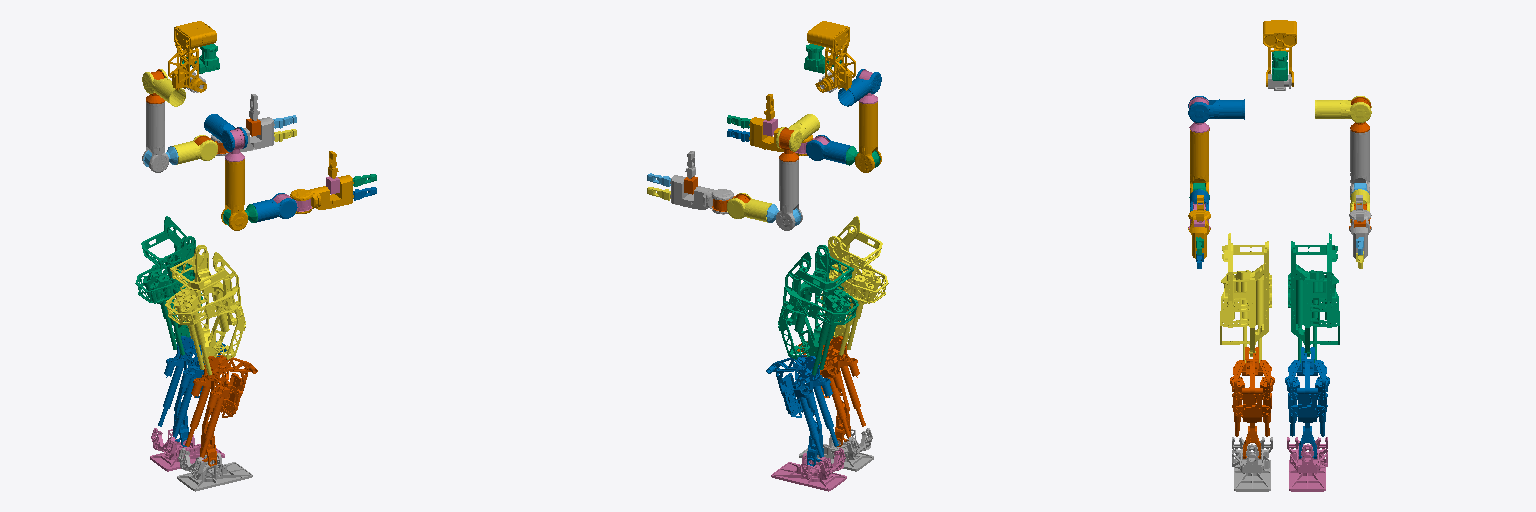
--- Facts derived from the render (not from the file) ---
3 views of the same robot in one strip: view 1: azimuth 30°, elevation 25°; view 2: azimuth 150°, elevation 25°; view 3: azimuth 270°, elevation 25° (orthographic).
Robot: escher — 49 links, 48 joints (39 revolute, 2 continuous, 3 prismatic, 4 fixed); root link base_link; default pose: all joints at 0.
Visible links, largest first — view 1: r_thigh, r_shin, l_thigh, l_shin, head, r_foot, r_arm, l_arm, r_palm, l_foot, l_shoulder, l_forearm (+3 smaller); view 2: l_thigh, l_shin, r_thigh, r_shin, head, l_foot, l_arm, r_arm, l_palm, r_foot, r_shoulder, l_forearm (+3 smaller); view 3: l_thigh, r_thigh, r_shin, l_shin, l_foot, r_foot, head, r_shoulder, l_arm, l_shoulder, r_arm.
Link boxes in pixels (box(x1,y1,x2,y2)): r_thigh: box(165, 245, 245, 375); r_shin: box(185, 355, 257, 466); l_thigh: box(135, 216, 202, 355); l_shin: box(158, 336, 226, 446); head: box(168, 21, 216, 92); r_foot: box(177, 448, 252, 491); r_arm: box(221, 159, 247, 230); l_arm: box(142, 102, 168, 172); r_palm: box(290, 175, 353, 213); l_foot: box(150, 428, 224, 471); l_shoulder: box(142, 69, 185, 106); l_forearm: box(172, 135, 217, 164); l_thigh: box(778, 245, 858, 375); l_shin: box(766, 355, 838, 466); r_thigh: box(821, 216, 888, 355); r_shin: box(797, 336, 865, 446); head: box(807, 21, 855, 92); l_foot: box(771, 448, 846, 491); l_arm: box(776, 159, 802, 230); r_arm: box(855, 102, 881, 172); l_palm: box(670, 175, 733, 214); r_foot: box(799, 428, 873, 471); r_shoulder: box(838, 69, 881, 106); l_forearm: box(727, 193, 771, 222); l_thigh: box(1288, 233, 1339, 362); r_thigh: box(1220, 233, 1271, 362); r_shin: box(1230, 347, 1274, 458); l_shin: box(1285, 347, 1329, 458); l_foot: box(1287, 437, 1327, 491); r_foot: box(1232, 437, 1272, 491); head: box(1263, 20, 1296, 86); r_shoulder: box(1188, 96, 1244, 122); l_arm: box(1350, 129, 1369, 195); l_shoulder: box(1315, 96, 1371, 122); r_arm: box(1190, 129, 1209, 193).
Size in the robot's own frame: 0.7617 by 0.6628 by 1.78 metres.
Meshes: 33 distinct files referenced, 31 mesh visuals loaded (31 binary STL); not drawn: 2 (reference not matched to a file when rendering).

The robot description file, URDF, robot "escher":
<?xml version="1.0" ?>
<robot name="escher">
  <link name="base_link">
    <origin xyz="0 0 0.9"/>
    <inertial>
      <mass value="0"/>
      <inertia ixx="0" ixy="0" ixz="0" iyy="0" iyz="0" izz="0"/>
    </inertial>
  </link>
  <!-- NOTE: This is not the right way to do this-->
  <link name="x_prismatic_link">
    <origin xyz="0 0 0" />
    <inertial>
      <mass value="0" />
      <inertia ixx="0" ixy="0" ixz="0" iyy="0" iyz="0" izz="0" />
    </inertial>
  </link>
  <link name="y_prismatic_link">
    <origin xyz="0 0 0" />
    <inertial>
      <mass value="0" />
      <inertia ixx="0" ixy="0" ixz="0" iyy="0" iyz="0" izz="0" />
    </inertial>
  </link>
  <link name="z_prismatic_link">
    <origin xyz="0 0 0" />
    <inertial>
      <mass value="0" />
      <inertia ixx="0" ixy="0" ixz="0" iyy="0" iyz="0" izz="0" />
    </inertial>
  </link>
  <link name="roll_revolute_link">
    <origin xyz="0 0 0" />
    <inertial>
      <mass value="0" />
      <inertia ixx="0" ixy="0" ixz="0" iyy="0" iyz="0" izz="0" />
    </inertial>
  </link>
  <link name="pitch_revolute_link">
    <origin xyz="0 0 0" />
    <inertial>
      <mass value="0" />
      <inertia ixx="0" ixy="0" ixz="0" iyy="0" iyz="0" izz="0" />
    </inertial>
  </link>
  <link name="yaw_revolute_link">
    <origin xyz="0 0 0" />
    <inertial>
      <mass value="0" />
      <inertia ixx="0" ixy="0" ixz="0" iyy="0" iyz="0" izz="0" />
    </inertial>
  </link>
  <joint name="x_prismatic_joint" type="prismatic">
    <parent link="base_link"/>
    <child link="x_prismatic_link"/>
    <limit effort="1000.0" lower="-50.0" upper="50.0" velocity="1"/>
    <origin rpy="0 0 0" xyz="0 0 0"/>
    <axis xyz="1 0 0" />
  </joint>
  <joint name="y_prismatic_joint" type="prismatic">
    <parent link="x_prismatic_link"/>
    <child link="y_prismatic_link"/>
    <limit effort="1000.0" lower="-50.0" upper="50.0" velocity="1"/>
    <origin rpy="0 0 0" xyz="0 0 0"/>
    <axis xyz="0 1 0" />
  </joint>
  <joint name="z_prismatic_joint" type="prismatic">
    <parent link="y_prismatic_link"/>
    <child link="z_prismatic_link"/>
    <limit effort="1000.0" lower="-20.0" upper="20.0" velocity="1"/>
    <origin rpy="0 0 0" xyz="0 0 0"/>
    <axis xyz="0 0 1" />
  </joint>
  <joint name="roll_revolute_joint" type="revolute">
    <parent link="z_prismatic_link"/>
    <child link="roll_revolute_link"/>
    <!-- <limit effort="1000.0" lower="-0.5236" higher="0.5236" velocity="1"/> -->
    <limit effort="1000.0" lower="-0.0" higher="0.0" velocity="1"/>
    <origin rpy="0 0 0" xyz="0 0 0"/>
    <axis xyz="1 0 0" />
  </joint>
  <joint name="pitch_revolute_joint" type="revolute">
    <parent link="roll_revolute_link"/>
    <child link="pitch_revolute_link"/>
    <!-- <limit effort="1000.0" lower="-0.5236" higher="0.5236" velocity="1"/> -->
    <limit effort="1000.0" lower="-0.0" higher="0.0" velocity="1"/>
    <origin rpy="0 0 0" xyz="0 0 0"/>
    <axis xyz="0 1 0" />
  </joint>
  <joint name="yaw_revolute_joint" type="continuous">
    <parent link="pitch_revolute_link"/>
    <child link="yaw_revolute_link"/>
    <limit effort="1000.0" velocity="1"/>
    <origin rpy="0 0 0" xyz="0 0 0"/>
    <axis xyz="0 0 1" />
  </joint>
  <joint name="base_joint" type="fixed">
    <origin rpy="0 0 0" xyz="0 0 0"/>
    <axis xyz="0 0 1"/>
    <parent link="yaw_revolute_link"/>
    <child link="torso"/>
  </joint>
  <link name="l_sole"/>
  <link name="r_sole"/>
  <joint name="l_sole_joint" type="fixed">
    <origin xyz="0.025 0 -0.08"/>
    <parent link="l_foot"/>
    <child link="l_sole"/>
  </joint>
  <joint name="r_sole_joint" type="fixed">
    <origin xyz="0.025 0 -0.08"/>
    <parent link="r_foot"/>
    <child link="r_sole"/>
  </joint>


  <joint name="l_hip_yaw" type="revolute">
    <parent link="torso"/>
    <child link="l_hip_yaw_trunnion"/>
    <origin rpy="0  0  0" xyz="0   0.1  0.9"/>
    <axis xyz="0  0  1"/>
    <limit effort="150.0" lower="-0.349065850399" upper="0.785398163397" velocity="12.0"/>
  </joint>
  <joint name="r_hip_yaw" type="revolute">
    <parent link="torso"/>
    <child link="r_hip_yaw_trunnion"/>
    <origin rpy="0  0  0" xyz="0  -0.1  0.9"/>
    <axis xyz="0  0  1"/>
    <limit effort="150.0" lower="-0.785398163397" upper="0.349065850399" velocity="12.0"/>
  </joint>
  <joint name="l_hip_roll" type="revolute">
    <parent link="l_hip_yaw_trunnion"/>
    <child link="l_hip_pitch_trunnion"/>
    <origin rpy="0  0  0" xyz="0  0  0"/>
    <axis xyz="1  0  0"/>
    <limit effort="150.0" lower="-0.523598775598" upper="0.785398163397" velocity="12.0"/>
  </joint>
  <joint name="r_hip_roll" type="revolute">
    <parent link="r_hip_yaw_trunnion"/>
    <child link="r_hip_pitch_trunnion"/>
    <origin rpy="0  0  0" xyz="0  0  0"/>
    <axis xyz="1  0  0"/>
    <limit effort="150.0" lower="-0.785398163397" upper="0.523598775598" velocity="12.0"/>
  </joint>
  <joint name="l_hip_pitch" type="revolute">
    <parent link="l_hip_pitch_trunnion"/>
    <child link="l_thigh"/>
    <origin rpy="0  0  0" xyz="0  0  0"/>
    <axis xyz="0  1  0"/>
    <limit effort="200.0" lower="-2.09439510239" upper="0.523598775598" velocity="12.0"/>
  </joint>
  <joint name="r_hip_pitch" type="revolute">
    <parent link="r_hip_pitch_trunnion"/>
    <child link="r_thigh"/>
    <origin rpy="0  0  0" xyz="0  0  0"/>
    <axis xyz="0  1  0"/>
    <limit effort="200.0" lower="-2.09439510239" upper="0.523598775598" velocity="12.0"/>
  </joint>
  <joint name="l_knee_pitch" type="revolute">
    <parent link="l_thigh"/>
    <child link="l_shin"/>
    <origin rpy="0  0  0" xyz="0    0   -0.41"/>
    <axis xyz="0  1  0"/>
    <limit effort="300.0" lower="0.0" upper="2.35619449019" velocity="12.0"/>
  </joint>
  <joint name="r_knee_pitch" type="revolute">
    <parent link="r_thigh"/>
    <child link="r_shin"/>
    <origin rpy="0  0  0" xyz="0    0   -0.41"/>
    <axis xyz="0  1  0"/>
    <limit effort="300.0" lower="0.0" upper="2.35619449019" velocity="12.0"/>
  </joint>
  <joint name="l_ankle_pitch" type="revolute">
    <parent link="l_shin"/>
    <child link="l_ankle_pitch_trunnion"/>
    <origin rpy="0  0  0" xyz="0    0   -0.41"/>
    <axis xyz="0  1  0"/>
    <limit effort="150.0" lower="-0.959931088597" upper="0.610865238198" velocity="12.0"/>
  </joint>
  <joint name="r_ankle_pitch" type="revolute">
    <parent link="r_shin"/>
    <child link="r_ankle_pitch_trunnion"/>
    <origin rpy="0  0  0" xyz="0    0   -0.41"/>
    <axis xyz="0  1  0"/>
    <limit effort="150.0" lower="-0.959931088597" upper="0.610865238198" velocity="12.0"/>
  </joint>
  <joint name="l_ankle_roll" type="revolute">
    <parent link="l_ankle_pitch_trunnion"/>
    <child link="l_foot"/>
    <origin rpy="0  0  0" xyz="0  0  0"/>
    <axis xyz="1  0  0"/>
    <limit effort="150.0" lower="-0.523598775598" upper="0.523598775598" velocity="12.0"/>
  </joint>
  <joint name="r_ankle_roll" type="revolute">
    <parent link="r_ankle_pitch_trunnion"/>
    <child link="r_foot"/>
    <origin rpy="0  0  0" xyz="0  0  0"/>
    <axis xyz="1  0  0"/>
    <limit effort="150.0" lower="-0.523598775598" upper="0.523598775598" velocity="12.0"/>
  </joint>
  <joint name="waist_yaw" type="revolute">
    <parent link="torso"/>
    <child link="chest"/>
    <origin rpy="0  0  0" xyz="-0.02515  0       1.3455"/>
    <axis xyz="0  0  1"/>
    <limit effort="150.0" lower="-0.785398163397" upper="0.785398163397" velocity="12.0"/>
  </joint>
  <joint name="head_yaw" type="revolute">
    <parent link="chest"/>
    <child link="neck"/>
    <origin rpy="0  0  0" xyz="0.02515  0       0.1925"/>
    <axis xyz="0  0  1"/>
    <limit effort="150.0" lower="-1.57079632679" upper="1.57079632679" velocity="12.0"/>
  </joint>
  <joint name="head_pitch" type="revolute">
    <parent link="neck"/>
    <child link="head"/>
    <origin rpy="0  0  0" xyz="0      0      0.0286"/>
    <axis xyz="0  1  0"/>
    <limit effort="150.0" lower="-0.523598775598" upper="1.0471975512" velocity="12.0"/>
  </joint>
  <joint name="left_camera_frame_joint" type="fixed">
    <parent link="head"/>
    <child link="left_camera_frame"/>
    <origin rpy="0  0  0" xyz="0.05156  0.035    0.18627"/>
    <axis xyz="0  1  0"/>
    <limit effort="0.0" lower="0.0" upper="0.0" velocity="0.0"/>
  </joint>
  <joint name="head_lidar_roll" type="continuous">
    <parent link="head"/>
    <child link="head_lidar"/>
    <origin rpy="0  0  0" xyz="0     0     0.089"/>
    <axis xyz="1  0  0"/>
    <limit effort="150.0" lower="0.0" upper="0.0" velocity="12.0"/>
  </joint>
  <joint name="l_shoulder_pitch" type="revolute">
    <parent link="chest"/>
    <child link="l_shoulder"/>
    <origin rpy="0  0  0" xyz="0.02515  0.1275   0.1079"/>
    <axis xyz="0  1  0"/>
    <limit effort="60.0" lower="-3.14159265359" upper="1.0471975512" velocity="2.0944"/>
  </joint>
  <joint name="r_shoulder_pitch" type="revolute">
    <parent link="chest"/>
    <child link="r_shoulder"/>
    <origin rpy="0  0  0" xyz="0.02515 -0.1275   0.1079"/>
    <axis xyz="0  1  0"/>
    <limit effort="60.0" lower="-3.14159265359" upper="1.0471975512" velocity="2.0944"/>
  </joint>
  <joint name="l_shoulder_roll" type="revolute">
    <parent link="l_shoulder"/>
    <child link="l_shoulder_roll_link"/>
    <origin rpy="0  0  0" xyz="0     0.163  0"/>
    <axis xyz="1  0  0"/>
    <limit effort="60.0" lower="-0.523598775598" upper="3.14159265359" velocity="2.0944"/>
  </joint>
  <joint name="r_shoulder_roll" type="revolute">
    <parent link="r_shoulder"/>
    <child link="r_shoulder_roll_link"/>
    <origin rpy="0  0  0" xyz="0    -0.163  0"/>
    <axis xyz="1  0  0"/>
    <limit effort="60.0" lower="-3.14159265359" upper="0.523598775598" velocity="2.0944"/>
  </joint>
  <joint name="l_shoulder_yaw" type="revolute">
    <parent link="l_shoulder_roll_link"/>
    <child link="l_arm"/>
    <origin rpy="0  0  0" xyz="0  0  0"/>
    <axis xyz="0  0  1"/>
    <limit effort="60.0" lower="-2.09439510239" upper="2.09439510239" velocity="2.0944"/>
  </joint>
  <joint name="r_shoulder_yaw" type="revolute">
    <parent link="r_shoulder_roll_link"/>
    <child link="r_arm"/>
    <origin rpy="0  0  0" xyz="0  0  0"/>
    <axis xyz="0  0  1"/>
    <limit effort="60.0" lower="-2.09439510239" upper="2.09439510239" velocity="2.0944"/>
  </joint>
  <joint name="l_elbow_pitch" type="revolute">
    <parent link="l_arm"/>
    <child link="l_elbow_link"/>
    <origin rpy="0  0  0" xyz="0      0     -0.3186"/>
    <axis xyz="0  1  0"/>
    <limit effort="60.0" lower="-0.523598775598" upper="3.66519142919" velocity="2.0944"/>
  </joint>
  <joint name="r_elbow_pitch" type="revolute">
    <parent link="r_arm"/>
    <child link="r_elbow_link"/>
    <origin rpy="0  0  0" xyz="0      0     -0.3186"/>
    <axis xyz="0  1  0"/>
    <limit effort="60.0" lower="-0.523598775598" upper="3.66519142919" velocity="2.0944"/>
  </joint>
  <joint name="l_elbow_roll" type="revolute">
    <parent link="l_elbow_link"/>
    <child link="l_forearm"/>
    <origin rpy="0  0  0" xyz="0  0  0"/>
    <axis xyz="1  0  0"/>
    <limit effort="60.0" lower="-2.09439510239" upper="2.09439510239" velocity="2.0944"/>
  </joint>
  <joint name="r_elbow_roll" type="revolute">
    <parent link="r_elbow_link"/>
    <child link="r_forearm"/>
    <origin rpy="0  0  0" xyz="0  0  0"/>
    <axis xyz="1  0  0"/>
    <limit effort="60.0" lower="-2.09439510239" upper="2.09439510239" velocity="2.0944"/>
  </joint>
  <joint name="l_wrist_pitch" type="revolute">
    <parent link="l_forearm"/>
    <child link="l_foreforearm"/>
    <origin rpy="0  0  0" xyz="0.2071  0      0"/>
    <axis xyz="0  1  0"/>
    <limit effort="60.0" lower="-1.57079632679" upper="1.57079632679" velocity="2.0944"/>
  </joint>
  <joint name="r_wrist_pitch" type="revolute">
    <parent link="r_forearm"/>
    <child link="r_foreforearm"/>
    <origin rpy="0  0  0" xyz="0.2071  0      0"/>
    <axis xyz="0  1  0"/>
    <limit effort="60.0" lower="-1.57079632679" upper="1.57079632679" velocity="2.0944"/>
  </joint>
  <joint name="l_wrist_yaw" type="revolute">
    <parent link="l_foreforearm"/>
    <child link="l_palm"/>
    <origin rpy="0  0  0" xyz="0.0741  0      0"/>
    <axis xyz="0  0  1"/>
    <limit effort="60.0" lower="-1.57079632679" upper="1.57079632679" velocity="2.0944"/>
  </joint>
  <joint name="r_wrist_yaw" type="revolute">
    <parent link="r_foreforearm"/>
    <child link="r_palm"/>
    <origin rpy="0  0  0" xyz="0.0741  0      0"/>
    <axis xyz="0  0  1"/>
    <limit effort="60.0" lower="-1.57079632679" upper="1.57079632679" velocity="2.0944"/>
  </joint>
  <joint name="l_index_yaw" type="revolute">
    <parent link="l_palm"/>
    <child link="l_index_link"/>
    <origin rpy="0  0  0" xyz="0.21849  0       0.027"/>
    <axis xyz="0  0  1"/>
    <limit effort="4.0" lower="-1.57079632679" upper="0.785398163397" velocity="4.1888"/>
  </joint>
  <joint name="r_index_yaw" type="revolute">
    <parent link="r_palm"/>
    <child link="r_index_link"/>
    <origin rpy="0  0  0" xyz="0.21849  0       0.027"/>
    <axis xyz="0  0  1"/>
    <limit effort="4.0" lower="-0.785398163397" upper="1.57079632679" velocity="4.1888"/>
  </joint>
  <joint name="l_ring_yaw" type="revolute">
    <parent link="l_palm"/>
    <child link="l_ring_link"/>
    <origin rpy="0  0  0" xyz="0.21849  0      -0.027"/>
    <axis xyz="0  0  1"/>
    <limit effort="4.0" lower="-1.57079632679" upper="0.785398163397" velocity="4.1888"/>
  </joint>
  <joint name="r_ring_yaw" type="revolute">
    <parent link="r_palm"/>
    <child link="r_ring_link"/>
    <origin rpy="0  0  0" xyz="0.21849  0       0.027"/>
    <axis xyz="0  0  1"/>
    <limit effort="4.0" lower="-0.785398163397" upper="1.57079632679" velocity="4.1888"/>
  </joint>
  <joint name="l_thumb_roll" type="revolute">
    <parent link="l_palm"/>
    <child link="l_thumb_base"/>
    <origin rpy="0  0  0" xyz="0.10539  0       0.01529"/>
    <axis xyz="1  0  0"/>
    <limit effort="4.0" lower="-1.57079632679" upper="1.57079632679" velocity="4.1888"/>
  </joint>
  <joint name="r_thumb_roll" type="revolute">
    <parent link="r_palm"/>
    <child link="r_thumb_base"/>
    <origin rpy="0  0  0" xyz="0.10539  0       0.01529"/>
    <axis xyz="1  0  0"/>
    <limit effort="4.0" lower="-1.57079632679" upper="1.57079632679" velocity="4.1888"/>
  </joint>
  <joint name="l_thumb_pitch" type="revolute">
    <parent link="l_thumb_base"/>
    <child link="l_thumb_link"/>
    <origin rpy="0  0  0" xyz="0.03009 -0.00214  0.05731"/>
    <axis xyz="0  1  0"/>
    <limit effort="4.0" lower="-0.785398163397" upper="1.57079632679" velocity="4.1888"/>
  </joint>
  <joint name="r_thumb_pitch" type="revolute">
    <parent link="r_thumb_base"/>
    <child link="r_thumb_link"/>
    <origin rpy="0  0  0" xyz="0.03009  0.00214  0.05731"/>
    <axis xyz="0  1  0"/>
    <limit effort="4.0" lower="-0.785398163397" upper="1.57079632679" velocity="4.1888"/>
  </joint>
  <link name="torso">
    <inertial>
      <mass value="12.662540836356"/>
      <origin rpy="0  0  0" xyz="-2.75400000e-02  -8.00000000e-05   1.03335000e+00"/>
      <inertia ixx="0.189594996" ixy="0.000243698" ixz="-0.00084363" iyy="0.165226373" iyz="2.491e-05" izz="0.191129536"/>
    </inertial>
    <collision name="torso_collision">
      <origin rpy="0  0  0" xyz="-0.03035  0       1.055"/>
      <geometry>
        <box size="0.307 0.41 0.26"/>
      </geometry>
    </collision>
    <visual name="torso_visual">
      <origin rpy="0  0  0" xyz="0  0  0"/>
      <geometry>
        <mesh filename="package://trec_platforms/gazebo_models/escher/meshes/torso.stl OR thor_description/meshes/torso.stl OR trec_platforms/gazebo_models/escher/meshes/torso.stl OR trec_platforms/gazebo_models/thor/meshes/torso.stl OR trec_platforms/gazebo_models/saffir/meshes/torso.stl" scale=".001 .001 .001"/>
      </geometry>
    </visual>
  </link>
  <link name="l_thigh">
    <inertial>
      <mass value="7.1064153123855"/>
      <origin rpy="0  0  0" xyz="-0.01289  0.02119 -0.20709"/>
      <inertia ixx="0.079832533" ixy="0.005608169" ixz="-0.014464827" iyy="0.090497961" iyz="-0.003214845" izz="0.04397275"/>
    </inertial>
    <collision name="l_thigh_collision">
      <origin rpy="0   -0.15  0" xyz="-0.01694  0.032   -0.23"/>
      <geometry>
        <box size="0.28 0.21 0.45"/>
      </geometry>
    </collision>
    <visual name="l_thigh_visual">
      <origin rpy="0  0  0" xyz="0  -0.1 -0.9"/>
      <geometry>
        <mesh filename="package://trec_platforms/gazebo_models/escher/meshes/l_thigh.stl OR thor_description/meshes/l_thigh.stl OR trec_platforms/gazebo_models/escher/meshes/l_thigh.stl OR trec_platforms/gazebo_models/thor/meshes/l_thigh.stl OR trec_platforms/gazebo_models/saffir/meshes/l_thigh.stl" scale=".001 .001 .001"/>
      </geometry>
    </visual>
  </link>
  <link name="r_thigh">
    <inertial>
      <mass value="7.0991535785875"/>
      <origin rpy="0  0  0" xyz="-0.01303 -0.02082 -0.207"/>
      <inertia ixx="0.079523937" ixy="-0.005865006" ixz="-0.014386485" iyy="0.090222577" iyz="0.003378144" izz="0.044391657"/>
    </inertial>
    <collision name="r_thigh_collision">
      <origin rpy="0   -0.18  0" xyz="-0.01694 -0.032   -0.23"/>
      <geometry>
        <box size="0.28 0.21 0.45"/>
      </geometry>
    </collision>
    <visual name="r_thigh_visual">
      <origin rpy="0  0  0" xyz="0   0.1 -0.9"/>
      <geometry>
        <mesh filename="package://trec_platforms/gazebo_models/escher/meshes/r_thigh.stl OR thor_description/meshes/r_thigh.stl OR trec_platforms/gazebo_models/escher/meshes/r_thigh.stl OR trec_platforms/gazebo_models/thor/meshes/r_thigh.stl OR trec_platforms/gazebo_models/saffir/meshes/r_thigh.stl" scale=".001 .001 .001"/>
      </geometry>
    </visual>
  </link>
  <link name="l_shin">
    <inertial>
      <mass value="4.891550698374"/>
      <origin rpy="0  0  0" xyz="0.0392   0.00038 -0.15416"/>
      <inertia ixx="0.049926224" ixy="-6.1882e-05" ixz="0.008459786" iyy="0.051902624" iyz="-0.000412746" izz="0.017996958"/>
    </inertial>
    <collision name="l_shin_collision">
      <origin rpy="0    0.28  0" xyz="0.01907  0.00211 -0.20888"/>
      <geometry>
        <box size="0.13 0.16 0.4512008"/>
      </geometry>
    </collision>
    <visual name="l_shin_visual">
      <origin rpy="0  0  0" xyz="0   -0.1  -0.49"/>
      <geometry>
        <mesh filename="package://trec_platforms/gazebo_models/escher/meshes/l_shin.stl OR thor_description/meshes/l_shin.stl OR trec_platforms/gazebo_models/escher/meshes/l_shin.stl OR trec_platforms/gazebo_models/thor/meshes/l_shin.stl OR trec_platforms/gazebo_models/saffir/meshes/l_shin.stl" scale=".001 .001 .001"/>
      </geometry>
    </visual>
  </link>
  <link name="r_shin">
    <inertial>
      <mass value="4.8915506176771"/>
      <origin rpy="0  0  0" xyz="0.0392  -0.00028 -0.15416"/>
      <inertia ixx="0.049926754" ixy="8.0717e-05" ixz="0.008459765" iyy="0.051902784" iyz="0.000377725" izz="0.01799724"/>
    </inertial>
    <collision name="r_shin_collision">
      <origin rpy="0    0.28  0" xyz="0.01907 -0.00211 -0.20888"/>
      <geometry>
        <box size="0.13 0.16 0.4512008"/>
      </geometry>
    </collision>
    <visual name="r_shin_visual">
      <origin rpy="0  0  0" xyz="0    0.1  -0.49"/>
      <geometry>
        <mesh filename="package://trec_platforms/gazebo_models/escher/meshes/r_shin.stl OR thor_description/meshes/r_shin.stl OR trec_platforms/gazebo_models/escher/meshes/r_shin.stl OR trec_platforms/gazebo_models/thor/meshes/r_shin.stl OR trec_platforms/gazebo_models/saffir/meshes/r_shin.stl" scale=".001 .001 .001"/>
      </geometry>
    </visual>
  </link>
  <link name="l_foot">
    <inertial>
      <mass value="1.7980371518612"/>
      <origin rpy="0  0  0" xyz="-0.00354  0.00037 -0.04369"/>
      <inertia ixx="0.003629189" ixy="1.3079e-05" ixz="-0.001366256" iyy="0.007181627" iyz="2.3132e-05" izz="0.007515445"/>
    </inertial>
    <collision name="l_foot_collision">
      <origin rpy="0  0  0" xyz="0.025    0      -0.05327"/>
      <geometry>
        <box size="0.25 0.1485 0.05493235"/>
      </geometry>
    </collision>
    <visual name="l_foot_visual">
      <origin rpy="0  0  0" xyz="0   -0.1  -0.08"/>
      <geometry>
        <mesh filename="package://trec_platforms/gazebo_models/escher/meshes/l_foot.stl OR thor_description/meshes/l_foot.stl OR trec_platforms/gazebo_models/escher/meshes/l_foot.stl OR trec_platforms/gazebo_models/thor/meshes/l_foot.stl OR trec_platforms/gazebo_models/saffir/meshes/l_foot.stl" scale=".001 .001 .001"/>
      </geometry>
    </visual>
  </link>
  <link name="r_foot">
    <inertial>
      <mass value="1.8019124983577"/>
      <origin rpy="0  0  0" xyz="-0.00325 -0.00035 -0.04369"/>
      <inertia ixx="0.003638673" ixy="8.912e-06" ixz="-0.001360529" iyy="0.007191304" iyz="-2.3098e-05" izz="0.007526564"/>
    </inertial>
    <collision name="r_foot_collision">
      <origin rpy="0  0  0" xyz="0.025    0      -0.05332"/>
      <geometry>
        <box size="0.25 0.1485 0.05493235"/>
      </geometry>
    </collision>
    <visual name="r_foot_visual">
      <origin rpy="0  0  0" xyz="0    0.1  -0.08"/>
      <geometry>
        <mesh filename="package://trec_platforms/gazebo_models/escher/meshes/r_foot.stl OR thor_description/meshes/r_foot.stl OR trec_platforms/gazebo_models/escher/meshes/r_foot.stl OR trec_platforms/gazebo_models/thor/meshes/r_foot.stl OR trec_platforms/gazebo_models/saffir/meshes/r_foot.stl" scale=".001 .001 .001"/>
      </geometry>
    </visual>
  </link>
  <link name="l_hip_yaw_trunnion">
    <inertial>
      <mass value="0.051728795245815"/>
      <origin rpy="0  0  0" xyz="0  0  0"/>
      <inertia ixx="0.0085833333333333" ixy="0" ixz="0" iyy="0.0085833333333333" iyz="0" izz="0.00075"/>
    </inertial>
  </link>
  <link name="r_hip_yaw_trunnion">
    <inertial>
      <mass value="0.051728795245815"/>
      <origin rpy="0  0  0" xyz="0  0  0"/>
      <inertia ixx="0.0085833333333333" ixy="0" ixz="0" iyy="0.0085833333333333" iyz="0" izz="0.00075"/>
    </inertial>
  </link>
  <link name="l_hip_pitch_trunnion">
    <inertial>
      <mass value="0.051728795245815"/>
      <origin rpy="1.57079  0       0" xyz="0  0  0"/>
      <inertia ixx="0.0085833333333333" ixy="0" ixz="0" iyy="0.0085833333333333" iyz="0" izz="0.00075"/>
    </inertial>
  </link>
  <link name="r_hip_pitch_trunnion">
    <inertial>
      <mass value="0.051728795245815"/>
      <origin rpy="1.57079  0       0" xyz="0  0  0"/>
      <inertia ixx="0.0085833333333333" ixy="0" ixz="0" iyy="0.0085833333333333" iyz="0" izz="0.00075"/>
    </inertial>
  </link>
  <link name="l_ankle_pitch_trunnion">
    <inertial>
      <mass value="0.051728795245815"/>
      <origin rpy="1.57079  0       0" xyz="0  0  0"/>
      <inertia ixx="0.0085833333333333" ixy="0" ixz="0" iyy="0.0085833333333333" iyz="0" izz="0.00075"/>
    </inertial>
  </link>
  <link name="r_ankle_pitch_trunnion">
    <inertial>
      <mass value="0.051728795245815"/>
      <origin rpy="1.57079  0       0" xyz="0  0  0"/>
      <inertia ixx="0.0085833333333333" ixy="0" ixz="0" iyy="0.0085833333333333" iyz="0" izz="0.00075"/>
    </inertial>
  </link>
  <link name="chest">
    <inertial>
      <mass value="15.967544717148"/>
      <origin rpy="0  0  0" xyz="0.00049 -0.00057  0.00107"/>
      <inertia ixx="0.320061097" ixy="-0.001679142" ixz="-0.006857708" iyy="0.258881187" iyz="0.005595512" izz="0.19263458"/>
    </inertial>
    <collision name="chest_collision">
      <origin rpy="0  0  0" xyz="0  0  0"/>
      <geometry>
        <box size="0.24 0.43 0.325"/>
      </geometry>
    </collision>
    <visual name="chest_visual">
      <origin rpy="0  0  0" xyz="0.02515  0      -1.3455"/>
      <geometry>
        <mesh filename="package://trec_platforms/gazebo_models/escher/meshes/chest.stl OR thor_description/meshes/chest.stl OR rene_description/meshes/chest.stl OR trec_platforms/gazebo_models/escher/meshes/chest.stl OR trec_platforms/gazebo_models/thor/meshes/chest.stl OR trec_platforms/gazebo_models/saffir/meshes/chest.stl" scale=".001 .001 .001"/>
      </geometry>
    </visual>
  </link>
  <link name="neck">
    <inertial>
      <mass value="0.4430192306267"/>
      <origin rpy="0  0  0" xyz="0       0.00028  0.02571"/>
      <inertia ixx="0.000347468" ixy="0" ixz="-0" iyy="0.000151286" iyz="-8.157e-06" izz="0.000333572"/>
    </inertial>
    <collision name="neck_collision">
      <origin rpy="0  0  0" xyz="0       0.003    0.02152"/>
      <geometry>
        <box size="0.0541 0.096 0.05405"/>
      </geometry>
    </collision>
    <visual name="neck_visual">
      <origin rpy="0  0  0" xyz="0     0    -1.538"/>
      <geometry>
        <mesh filename="package://trec_platforms/gazebo_models/escher/meshes/neck.stl OR thor_description/meshes/neck.stl OR rene_description/meshes/neck.stl OR trec_platforms/gazebo_models/escher/meshes/neck.stl OR trec_platforms/gazebo_models/thor/meshes/neck.stl OR trec_platforms/gazebo_models/saffir/meshes/neck.stl" scale=".001 .001 .001"/>
      </geometry>
    </visual>
  </link>
  <link name="head">
    <inertial>
      <mass value="1.7856228555403"/>
      <origin rpy="0  0  0" xyz="-1.90400000e-02   1.00000000e-05   1.38520000e-01"/>
      <inertia ixx="0.009989911" ixy="3.49e-06" ixz="0.002192988" iyy="0.010295295" iyz="-8.541e-06" izz="0.003904584"/>
    </inertial>
    <collision name="head_collision">
      <origin rpy="0  0  0" xyz="-0.01425  0       0.07445"/>
      <geometry>
        <box size="0.155386 0.122 0.2991"/>
      </geometry>
    </collision>
    <visual name="head_visual">
      <origin rpy="0  0  0" xyz="0      0     -1.5666"/>
      <geometry>
        <mesh filename="package://trec_platforms/gazebo_models/escher/meshes/head.stl OR thor_description/meshes/head.stl OR rene_description/meshes/head.stl OR trec_platforms/gazebo_models/escher/meshes/head.stl OR trec_platforms/gazebo_models/thor/meshes/head.stl OR trec_platforms/gazebo_models/saffir/meshes/head.stl" scale=".001 .001 .001"/>
      </geometry>
    </visual>
  </link>
  <link name="left_camera_frame">
    <inertial>
      <mass value="0.010345759049163"/>
      <origin rpy="0  0  0" xyz="0  0  0"/>
      <inertia ixx="0.0005" ixy="0" ixz="0" iyy="0.0005" iyz="0" izz="0.0005"/>
    </inertial>
  </link>
  <link name="head_lidar">
    <inertial>
      <mass value="0.44909881868181"/>
      <origin rpy="0  0  0" xyz="0.02536  0      -0.00763"/>
      <inertia ixx="0.000368817" ixy="5.5e-08" ixz="-8.417e-06" iyy="0.000869352" iyz="-2.1e-08" izz="0.000701866"/>
    </inertial>
    <collision name="head_lidar_collision">
      <origin rpy="0  0  0" xyz="0.0098  0      0"/>
      <geometry>
        <box size="0.1395 0.06 0.093"/>
      </geometry>
    </collision>
    <visual name="head_lidar_visual">
      <origin rpy="0  0  0" xyz="0.0098  0      0"/>
      <geometry>
        <mesh filename="package://trec_platforms/gazebo_models/escher/meshes/head_lidar.stl OR thor_description/meshes/head_lidar.stl OR rene_description/meshes/head_lidar.stl OR trec_platforms/gazebo_models/escher/meshes/head_lidar.stl OR trec_platforms/gazebo_models/thor/meshes/head_lidar.stl OR trec_platforms/gazebo_models/saffir/meshes/head_lidar.stl" scale=".001 .001 .001"/>
      </geometry>
    </visual>
  </link>
  <link name="l_shoulder">
    <inertial>
      <mass value="1.3908820991708"/>
      <origin rpy="0  0  0" xyz="0.00068  0.08249 -0.00011"/>
      <inertia ixx="0.002733115" ixy="7.3154e-05" ixz="1.54e-07" iyy="0.001266362" iyz="-1.541e-06" izz="0.002795471"/>
    </inertial>
    <collision name="l_shoulder_collision">
      <origin rpy="1.57079  0       0" xyz="0.00000000e+00   1.02000000e-01   3.00000000e-05"/>
      <geometry>
        <cylinder length="0.2" radius="0.05"/>
      </geometry>
    </collision>
    <visual name="l_shoulder_visual">
      <origin rpy="0  0  0" xyz="0     -0.1275 -1.4534"/>
      <geometry>
        <mesh filename="package://trec_platforms/gazebo_models/escher/meshes/ShoulderPitchLeft.stl OR trec_platforms/gazebo_models/escher/meshes/ShoulderPitchLeft.stl" scale=".001 .001 .001"/>
      </geometry>
    </visual>
  </link>
  <link name="r_shoulder">
    <inertial>
      <mass value="1.3908820991708"/>
      <origin rpy="0  0  0" xyz="0.00069 -0.08249 -0.00011"/>
      <inertia ixx="0.002733115" ixy="-7.2667e-05" ixz="1.21e-07" iyy="0.001266353" iyz="1.541e-06" izz="0.002795463"/>
    </inertial>
    <collision name="r_shoulder_collision">
      <origin rpy="1.57079  0       0" xyz="0.00000000e+00  -1.02000000e-01   3.00000000e-05"/>
      <geometry>
        <cylinder length="0.2" radius="0.05"/>
      </geometry>
    </collision>
    <visual name="r_shoulder_visual">
      <origin rpy="0  0  0" xyz="0      0.1275 -1.4534"/>
      <geometry>
        <mesh filename="package://trec_platforms/gazebo_models/escher/meshes/ShoulderPitchRight.stl OR trec_platforms/gazebo_models/escher/meshes/ShoulderPitchRight.stl" scale=".001 .001 .001"/>
      </geometry>
    </visual>
  </link>
  <link name="l_shoulder_roll_link">
    <inertial>
      <mass value="0.73371135570505"/>
      <origin rpy="0  0  0" xyz="-1.50000000e-04  -6.00000000e-05  -1.50100000e-02"/>
      <inertia ixx="0.000940092" ixy="-7e-09" ixz="-1.865e-06" iyy="0.000866608" iyz="2.817e-06" izz="0.000365724"/>
    </inertial>
    <visual name="l_shoulder_roll_link_visual">
      <origin rpy="0  0  0" xyz="0      -0.29049 -1.45343"/>
      <geometry>
        <mesh filename="package://trec_platforms/gazebo_models/escher/meshes/ShoulderRollLeft.stl OR trec_platforms/gazebo_models/escher/meshes/ShoulderRollLeft.stl" scale=".001 .001 .001"/>
      </geometry>
    </visual>
  </link>
  <link name="r_shoulder_roll_link">
    <inertial>
      <mass value="0.73371135570505"/>
      <origin rpy="0  0  0" xyz="1.50000000e-04   6.00000000e-05  -1.50100000e-02"/>
      <inertia ixx="0.000940092" ixy="-7e-09" ixz="1.865e-06" iyy="0.000866608" iyz="-2.817e-06" izz="0.000365724"/>
    </inertial>
    <visual name="r_shoulder_roll_link_visual">
      <origin rpy="0  0  0" xyz="0       0.29049 -1.45343"/>
      <geometry>
        <mesh filename="package://trec_platforms/gazebo_models/escher/meshes/ShoulderRollRight.stl OR trec_platforms/gazebo_models/escher/meshes/ShoulderRollRight.stl" scale=".001 .001 .001"/>
      </geometry>
    </visual>
  </link>
  <link name="l_arm">
    <inertial>
      <mass value="1.3364954742869"/>
      <origin rpy="0  0  0" xyz="0       0.00094 -0.20911"/>
      <inertia ixx="0.007190942" ixy="-1e-09" ixz="-0" iyy="0.007116565" iyz="-0.000130703" izz="0.000965322"/>
    </inertial>
    <collision name="l_arm_collision">
      <origin rpy="0  0  0" xyz="0       0      -0.21829"/>
      <geometry>
        <cylinder length="0.32" radius="0.05"/>
      </geometry>
    </collision>
    <visual name="l_arm_visual">
      <origin rpy="0  0  0" xyz="0      -0.29049 -1.4534"/>
      <geometry>
        <mesh filename="package://trec_platforms/gazebo_models/escher/meshes/ShoulderYawLeft.stl OR trec_platforms/gazebo_models/escher/meshes/ShoulderYawLeft.stl" scale=".001 .001 .001"/>
      </geometry>
    </visual>
  </link>
  <link name="r_arm">
    <inertial>
      <mass value="1.3364954742869"/>
      <origin rpy="0  0  0" xyz="0      -0.00094 -0.20911"/>
      <inertia ixx="0.007190942" ixy="-1e-09" ixz="0" iyy="0.007116565" iyz="0.000130703" izz="0.000965322"/>
    </inertial>
    <collision name="r_arm_collision">
      <origin rpy="0  0  0" xyz="0       0      -0.21829"/>
      <geometry>
        <cylinder length="0.32" radius="0.05"/>
      </geometry>
    </collision>
    <visual name="r_arm_visual">
      <origin rpy="0  0  0" xyz="0       0.29049 -1.4534"/>
      <geometry>
        <mesh filename="package://trec_platforms/gazebo_models/escher/meshes/ShoulderYawRight.stl OR trec_platforms/gazebo_models/escher/meshes/ShoulderYawRight.stl" scale=".001 .001 .001"/>
      </geometry>
    </visual>
  </link>
  <link name="l_elbow_link">
    <inertial>
      <mass value="0.95581435823612"/>
      <origin rpy="0  0  0" xyz="1.47600000e-02   1.50000000e-04  -3.00000000e-05"/>
      <inertia ixx="0.000477001" ixy="-2.405e-06" ixz="-4.205e-06" iyy="0.001214959" iyz="1.1e-08" izz="0.001118907"/>
    </inertial>
    <visual name="l_elbow_link_visual">
      <origin rpy="0  0  0" xyz="0      -0.29049 -1.1348"/>
      <geometry>
        <mesh filename="package://trec_platforms/gazebo_models/escher/meshes/ElbowLeft.stl OR trec_platforms/gazebo_models/escher/meshes/ElbowLeft.stl" scale=".001 .001 .001"/>
      </geometry>
    </visual>
  </link>
  <link name="r_elbow_link">
    <inertial>
      <mass value="0.95581435823612"/>
      <origin rpy="0  0  0" xyz="1.47600000e-02   1.50000000e-04  -3.00000000e-05"/>
      <inertia ixx="0.000477001" ixy="-2.405e-06" ixz="-4.205e-06" iyy="0.001214959" iyz="1.1e-08" izz="0.001118907"/>
    </inertial>
    <visual name="r_elbow_link_visual">
      <origin rpy="0  0  0" xyz="0       0.29049 -1.1348"/>
      <geometry>
        <mesh filename="package://trec_platforms/gazebo_models/escher/meshes/ElbowRight.stl OR trec_platforms/gazebo_models/escher/meshes/ElbowRight.stl" scale=".001 .001 .001"/>
      </geometry>
    </visual>
  </link>
  <link name="l_forearm">
    <inertial>
      <mass value="1.0227212903647"/>
      <origin rpy="0  0  0" xyz="1.45300000e-01  -7.50000000e-04   5.00000000e-05"/>
      <inertia ixx="0.000942831" ixy="-3.4005e-05" ixz="2.35e-07" iyy="0.001534454" iyz="4.3e-07" izz="0.001587995"/>
    </inertial>
    <collision name="l_forearm_collision">
      <origin rpy="3.14159  1.57079  3.14159" xyz="1.12600000e-01   0.00000000e+00   3.00000000e-05"/>
      <geometry>
        <cylinder length="0.1" radius="0.05"/>
      </geometry>
    </collision>
    <visual name="l_forearm_visual">
      <origin rpy="0  0  0" xyz="0      -0.29049 -1.1348"/>
      <geometry>
        <mesh filename="package://trec_platforms/gazebo_models/escher/meshes/WristYawLeft.stl OR trec_platforms/gazebo_models/escher/meshes/WristYawLeft.stl" scale=".001 .001 .001"/>
      </geometry>
    </visual>
  </link>
  <link name="r_forearm">
    <inertial>
      <mass value="1.0227212903647"/>
      <origin rpy="0  0  0" xyz="1.45300000e-01   7.20000000e-04  -5.00000000e-05"/>
      <inertia ixx="0.000942865" ixy="3.3796e-05" ixz="-5.48e-07" iyy="0.001532968" iyz="2.168e-06" izz="0.001589516"/>
    </inertial>
    <collision name="r_forearm_collision">
      <origin rpy="3.14159  1.57079  3.14159" xyz="1.12600000e-01   0.00000000e+00   3.00000000e-05"/>
      <geometry>
        <cylinder length="0.1" radius="0.05"/>
      </geometry>
    </collision>
    <visual name="r_forearm_visual">
      <origin rpy="0  0  0" xyz="0       0.29049 -1.1348"/>
      <geometry>
        <mesh filename="package://trec_platforms/gazebo_models/escher/meshes/WristYawRight.stl OR trec_platforms/gazebo_models/escher/meshes/WristYawRight.stl" scale=".001 .001 .001"/>
      </geometry>
    </visual>
  </link>
  <link name="l_foreforearm">
    <inertial>
      <mass value="1.1603440741032"/>
      <origin rpy="0  0  0" xyz="3.70500000e-02  -6.00000000e-05   9.00000000e-05"/>
      <inertia ixx="0.000543674" ixy="4.334e-06" ixz="4.323e-06" iyy="0.002086265" iyz="-3.6e-08" izz="0.002086264"/>
    </inertial>
    <collision name="l_foreforearm_collision">
      <origin rpy="1.57079  0       0" xyz="2.05000000e-03   0.00000000e+00   3.00000000e-05"/>
      <geometry>
        <cylinder length="0.08" radius="0.05"/>
      </geometry>
    </collision>
    <visual name="l_foreforearm_visual">
      <origin rpy="0  0  0" xyz="-0.2071  -0.29049 -1.1348"/>
      <geometry>
        <mesh filename="package://trec_platforms/gazebo_models/escher/meshes/WristPitchRollLeft.stl OR trec_platforms/gazebo_models/escher/meshes/WristPitchRollLeft.stl" scale=".001 .001 .001"/>
      </geometry>
    </visual>
  </link>
  <link name="r_foreforearm">
    <inertial>
      <mass value="1.1603440741032"/>
      <origin rpy="0  0  0" xyz="3.70500000e-02   6.00000000e-05  -2.00000000e-05"/>
      <inertia ixx="0.000543674" ixy="-4.334e-06" ixz="-4.323e-06" iyy="0.002086265" iyz="-3.6e-08" izz="0.002086264"/>
    </inertial>
    <collision name="r_foreforearm_collision">
      <origin rpy="1.57079  0       0" xyz="2.05000000e-03   0.00000000e+00   3.00000000e-05"/>
      <geometry>
        <cylinder length="0.08" radius="0.05"/>
      </geometry>
    </collision>
    <visual name="r_foreforearm_visual">
      <origin rpy="0  0  0" xyz="-0.2071   0.29049 -1.1348"/>
      <geometry>
        <mesh filename="package://trec_platforms/gazebo_models/escher/meshes/WristPitchRollRight.stl OR trec_platforms/gazebo_models/escher/meshes/WristPitchRollRight.stl" scale=".001 .001 .001"/>
      </geometry>
    </visual>
  </link>
  <link name="l_palm">
    <inertial>
      <mass value="1.5249288992275"/>
      <origin rpy="0  0  0" xyz="1.19000000e-01  -4.00000000e-05  -3.95000000e-03"/>
      <inertia ixx="0.001459459" ixy="5.664e-06" ixz="8.297e-06" iyy="0.007087323" iyz="-7.05e-07" izz="0.006366048"/>
    </inertial>
    <collision name="l_palm_collision">
      <origin rpy="0  0  0" xyz="0.12474  0       0.005"/>
      <geometry>
        <box size="0.18 0.071 0.105"/>
      </geometry>
    </collision>
    <visual name="l_palm_visual">
      <origin rpy="0  0  0" xyz="-0.2812  -0.29049 -1.1348"/>
      <geometry>
        <mesh filename="package://trec_platforms/gazebo_models/escher/meshes/PalmLeft.stl OR trec_platforms/gazebo_models/escher/meshes/PalmLeft.stl" scale=".001 .001 .001"/>
      </geometry>
    </visual>
  </link>
  <link name="r_palm">
    <inertial>
      <mass value="1.5249288992275"/>
      <origin rpy="0  0  0" xyz="1.19000000e-01   1.00000000e-04  -4.74000000e-03"/>
      <inertia ixx="0.001449269" ixy="-8.856e-06" ixz="0.000141321" iyy="0.007077146" iyz="2.94e-07" izz="0.006366035"/>
    </inertial>
    <collision name="r_palm_collision">
      <origin rpy="0  0  0" xyz="0.12474  0       0.005"/>
      <geometry>
        <box size="0.18 0.071 0.105"/>
      </geometry>
    </collision>
    <visual name="r_palm_visual">
      <origin rpy="0  0  0" xyz="-0.2812   0.29049 -1.1348"/>
      <geometry>
        <mesh filename="package://trec_platforms/gazebo_models/escher/meshes/PalmRight.stl OR trec_platforms/gazebo_models/escher/meshes/PalmRight.stl" scale=".001 .001 .001"/>
      </geometry>
    </visual>
  </link>
  <link name="l_index_link">
    <inertial>
      <mass value="0.010345759049163"/>
      <origin rpy="0  0  0" xyz="4.10900000e-02   6.10000000e-04   6.00000000e-05"/>
      <inertia ixx="0.0005" ixy="0" ixz="0" iyy="0.0005" iyz="0" izz="0.0005"/>
    </inertial>
    <collision name="l_index_link_collision">
      <origin rpy="3.14159 -1.57079  3.14159" xyz="4.44200000e-02  -1.54000000e-03   4.00000000e-05"/>
      <geometry>
        <cylinder length="0.1" radius="0.025"/>
      </geometry>
    </collision>
    <visual name="l_index_link_visual">
      <origin rpy="0  0  0" xyz="-0.49969 -0.29049 -1.1618"/>
      <geometry>
        <mesh filename="package://trec_platforms/gazebo_models/escher/meshes/PointerLeft.stl OR trec_platforms/gazebo_models/escher/meshes/PointerLeft.stl" scale=".001 .001 .001"/>
      </geometry>
    </visual>
  </link>
  <link name="r_index_link">
    <inertial>
      <mass value="0.010345759049163"/>
      <origin rpy="0  0  0" xyz="4.10900000e-02  -6.10000000e-04   2.00000000e-05"/>
      <inertia ixx="0.0005" ixy="0" ixz="0" iyy="0.0005" iyz="0" izz="0.0005"/>
    </inertial>
    <collision name="r_index_link_collision">
      <origin rpy="3.14159 -1.57079  3.14159" xyz="4.44200000e-02   1.54000000e-03   4.00000000e-05"/>
      <geometry>
        <cylinder length="0.1" radius="0.025"/>
      </geometry>
    </collision>
    <visual name="r_index_link_visual">
      <origin rpy="0  0  0" xyz="-0.49969  0.29049 -1.1618"/>
      <geometry>
        <mesh filename="package://trec_platforms/gazebo_models/escher/meshes/PointerRight.stl OR trec_platforms/gazebo_models/escher/meshes/PointerRight.stl" scale=".001 .001 .001"/>
      </geometry>
    </visual>
  </link>
  <link name="l_ring_link">
    <inertial>
      <mass value="0.010345759049163"/>
      <origin rpy="0  0  0" xyz="4.10900000e-02   6.10000000e-04   4.00000000e-05"/>
      <inertia ixx="0.0005" ixy="0" ixz="0" iyy="0.0005" iyz="0" izz="0.0005"/>
    </inertial>
    <collision name="l_ring_link_collision">
      <origin rpy="3.14159 -1.57079  3.14159" xyz="4.44200000e-02  -1.54000000e-03   3.00000000e-05"/>
      <geometry>
        <cylinder length="0.1" radius="0.025"/>
      </geometry>
    </collision>
    <visual name="l_ring_link_visual">
      <origin rpy="0  0  0" xyz="-0.49969 -0.29049 -1.10779"/>
      <geometry>
        <mesh filename="package://trec_platforms/gazebo_models/escher/meshes/RingLeft.stl OR trec_platforms/gazebo_models/escher/meshes/RingLeft.stl" scale=".001 .001 .001"/>
      </geometry>
    </visual>
  </link>
  <link name="r_ring_link">
    <inertial>
      <mass value="0.010345759049163"/>
      <origin rpy="0  0  0" xyz="0.04109 -0.00061 -0.05398"/>
      <inertia ixx="0.0005" ixy="0" ixz="0" iyy="0.0005" iyz="0" izz="0.0005"/>
    </inertial>
    <collision name="r_ring_link_collision">
      <origin rpy="3.14159 -1.57079  3.14159" xyz="0.04442  0.00154 -0.05396"/>
      <geometry>
        <cylinder length="0.1" radius="0.025"/>
      </geometry>
    </collision>
    <visual name="r_ring_link_visual">
      <origin rpy="0  0  0" xyz="-0.49969  0.29049 -1.1618"/>
      <geometry>
        <mesh filename="package://trec_platforms/gazebo_models/escher/meshes/RingRight.stl OR trec_platforms/gazebo_models/escher/meshes/RingRight.stl" scale=".001 .001 .001"/>
      </geometry>
    </visual>
  </link>
  <link name="l_thumb_base">
    <inertial>
      <mass value="0.18707426326041"/>
      <origin rpy="0  0  0" xyz="2.90300000e-02  -4.00000000e-05   2.21000000e-02"/>
      <inertia ixx="7.244e-05" ixy="-9e-09" ixz="4.69e-07" iyy="6.6527e-05" iyz="-2.64e-07" izz="4.7191e-05"/>
    </inertial>
    <visual name="l_thumb_base_visual">
      <origin rpy="0  0  0" xyz="-0.38659 -0.29049 -1.15009"/>
      <geometry>
        <mesh filename="package://trec_platforms/gazebo_models/escher/meshes/ThumbBaseLeft.stl OR trec_platforms/gazebo_models/escher/meshes/ThumbBaseLeft.stl" scale=".001 .001 .001"/>
      </geometry>
    </visual>
  </link>
  <link name="r_thumb_base">
    <inertial>
      <mass value="0.18707426326041"/>
      <origin rpy="0  0  0" xyz="2.90300000e-02   4.00000000e-05   2.21000000e-02"/>
      <inertia ixx="7.244e-05" ixy="9e-09" ixz="4.69e-07" iyy="6.6527e-05" iyz="2.64e-07" izz="4.7191e-05"/>
    </inertial>
    <visual name="r_thumb_base_visual">
      <origin rpy="0  0  0" xyz="-0.38659  0.29049 -1.15009"/>
      <geometry>
        <mesh filename="package://trec_platforms/gazebo_models/escher/meshes/ThumbBaseRight.stl OR trec_platforms/gazebo_models/escher/meshes/ThumbBaseRight.stl" scale=".001 .001 .001"/>
      </geometry>
    </visual>
  </link>
  <link name="l_thumb_link">
    <inertial>
      <mass value="0.010345759049163"/>
      <origin rpy="0  0  0" xyz="-6.10000000e-04  -1.00000000e-05   4.08100000e-02"/>
      <inertia ixx="0.0005" ixy="0" ixz="0" iyy="0.0005" iyz="0" izz="0.0005"/>
    </inertial>
    <collision name="l_thumb_link_collision">
      <origin rpy="0  0  0" xyz="0.00154  0       0.05414"/>
      <geometry>
        <cylinder length="0.1" radius="0.025"/>
      </geometry>
    </collision>
    <visual name="l_thumb_link_visual">
      <origin rpy="0  0  0" xyz="-0.41668 -0.28835 -1.2074"/>
      <geometry>
        <mesh filename="package://trec_platforms/gazebo_models/escher/meshes/ThumbLeft.stl OR trec_platforms/gazebo_models/escher/meshes/ThumbLeft.stl" scale=".001 .001 .001"/>
      </geometry>
    </visual>
  </link>
  <link name="r_thumb_link">
    <inertial>
      <mass value="0.010345759049163"/>
      <origin rpy="0  0  0" xyz="-6.10000000e-04  -1.00000000e-05   4.08100000e-02"/>
      <inertia ixx="0.0005" ixy="0" ixz="0" iyy="0.0005" iyz="0" izz="0.0005"/>
    </inertial>
    <collision name="r_thumb_link_collision">
      <origin rpy="0  0  0" xyz="0.00154  0       0.05414"/>
      <geometry>
        <cylinder length="0.1" radius="0.025"/>
      </geometry>
    </collision>
    <visual name="r_thumb_link_visual">
      <origin rpy="0  0  0" xyz="-0.41668  0.28835 -1.2074"/>
      <geometry>
        <mesh filename="package://trec_platforms/gazebo_models/escher/meshes/ThumbRight.stl OR trec_platforms/gazebo_models/escher/meshes/ThumbRight.stl" scale=".001 .001 .001"/>
      </geometry>
    </visual>
  </link>
</robot>
